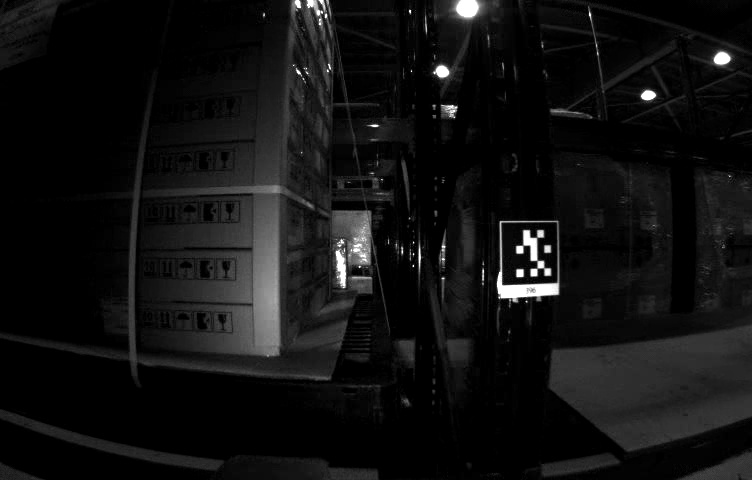True Barcode: (101, 300, 137, 335)
